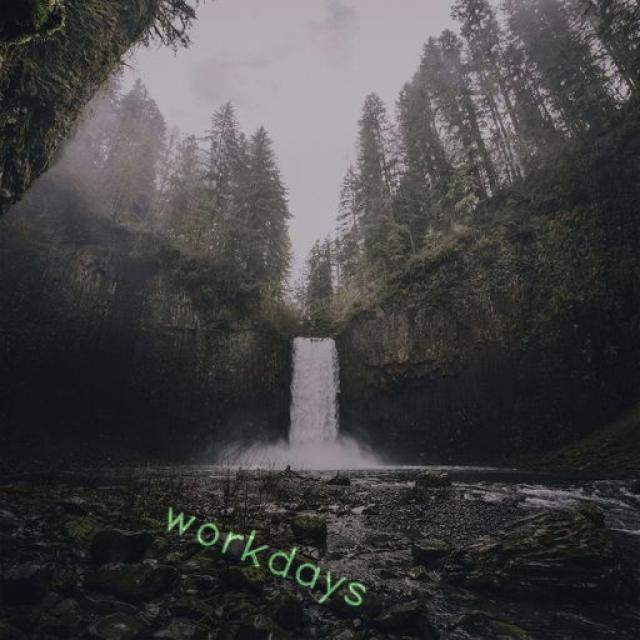watermark: (147, 491, 395, 617)
